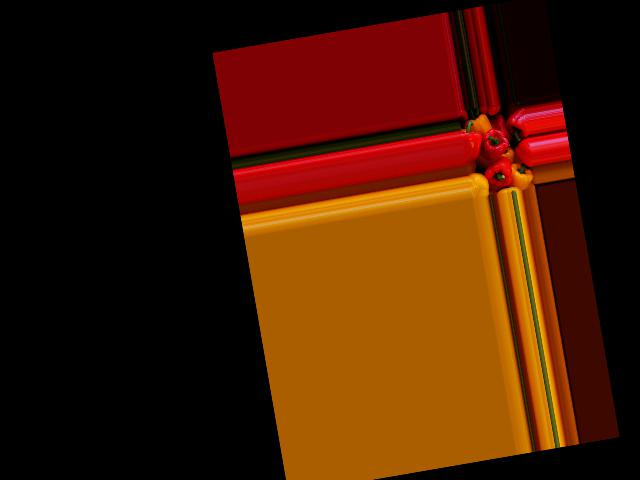bell_pepper: (507, 163, 532, 191)
